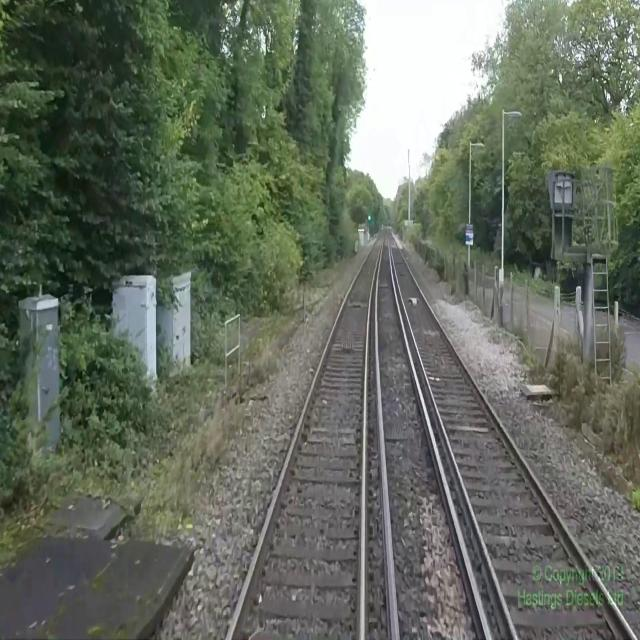rail-track: (390, 232, 631, 639), (230, 237, 382, 639)
